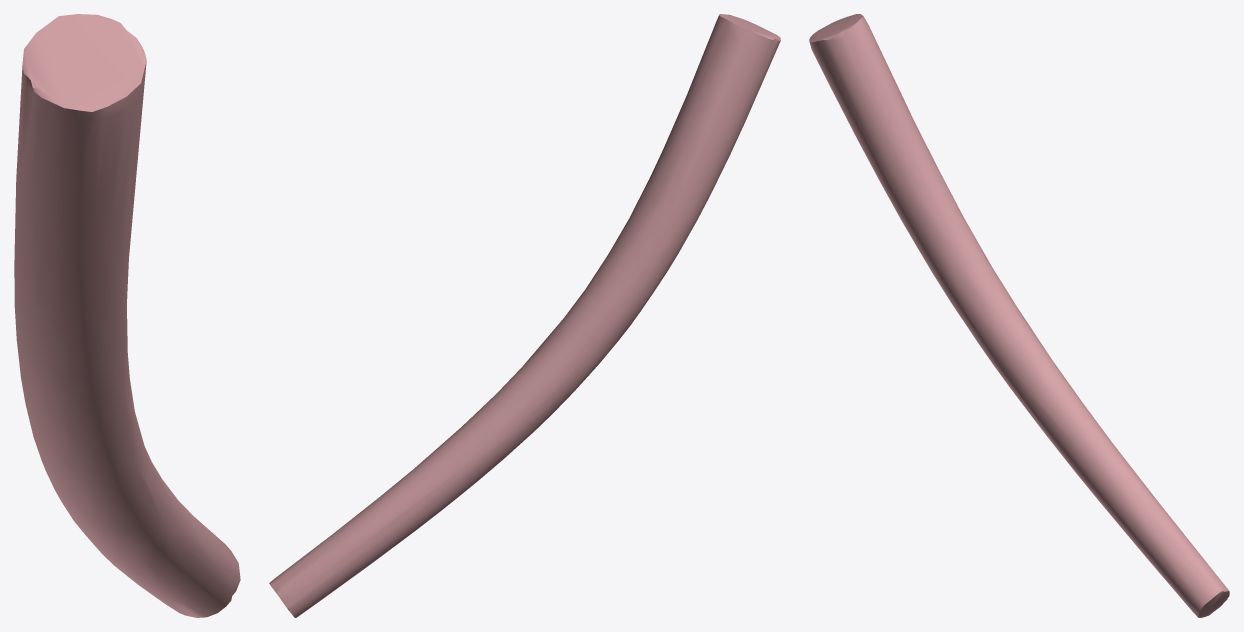
File: fma68221_fj2470.glb
The picture shows the model from 3 angles, left to right: view 1: azimuth 30°, elevation 25°; view 2: azimuth 150°, elevation 25°; view 3: azimuth 270°, elevation 25°; orthographic projection. The views are drawn at different scales.
Parts seen in each view (by area): view 1: FMA68221_FJ2470; view 2: FMA68221_FJ2470; view 3: FMA68221_FJ2470.
Part boxes in pixels (<box>): FMA68221_FJ2470: <box>14,14,240,617</box>; FMA68221_FJ2470: <box>269,14,780,617</box>; FMA68221_FJ2470: <box>809,14,1229,617</box>.
Bounding box in the file's own units: 0.0159 × 0.0256 × 0.0201.
